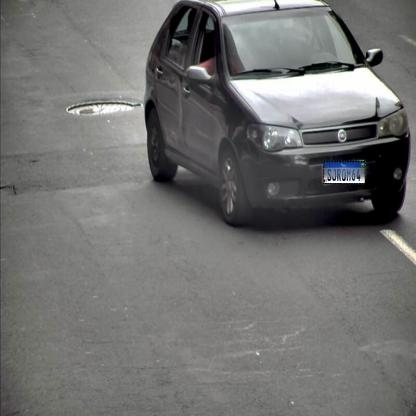PlacaM: (323, 161, 365, 184)
